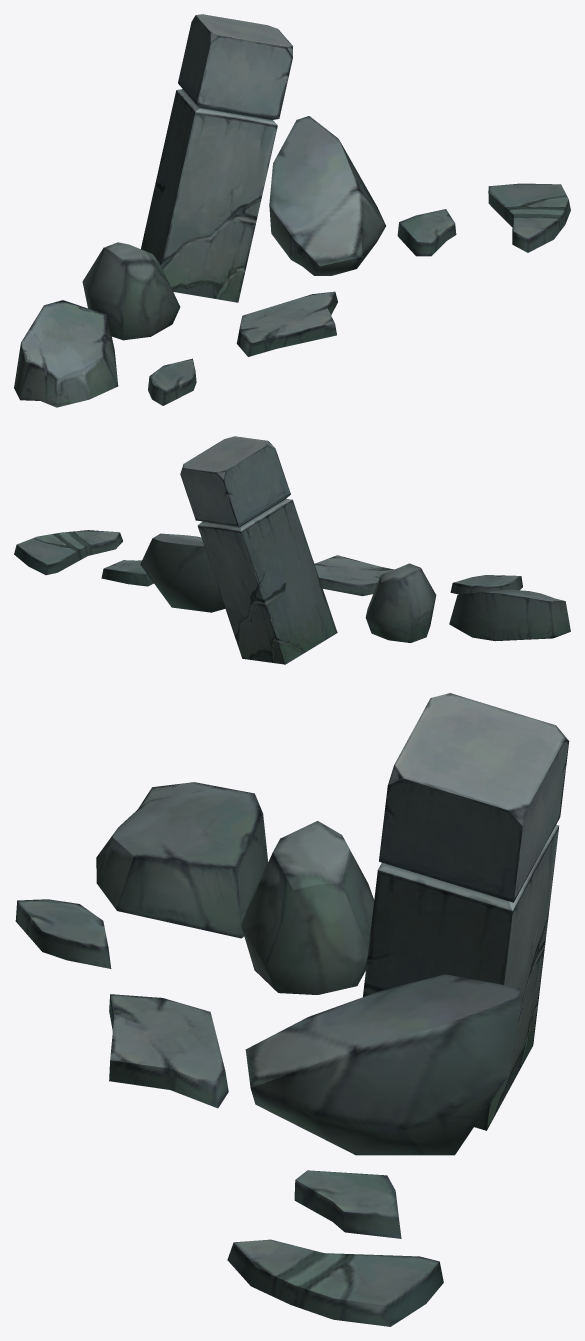
Rendered from 2_YiZhan_ShiDui_01.FBX.
3 views of the same model, one above another, from view 1: azimuth 30°, elevation 25°; view 2: azimuth 150°, elevation 25°; view 3: azimuth 270°, elevation 25° (orthographic). The views are drawn at different scales.
Parts seen in each view (by area): view 1: 2_YiZhan_ShiDui_03, 2_YiZhan_ShiDui_04, 2_YiZhan_ShiDui_01, 2_YiZhan_ShiDui_02, 2_YiZhan_ShiDui_06, 2_YiZhan_ShiDui_08, 2_YiZhan_ShiDui_07, 2_YiZhan_ShiDui_05; view 2: 2_YiZhan_ShiDui_03, 2_YiZhan_ShiDui_01, 2_YiZhan_ShiDui_04, 2_YiZhan_ShiDui_02, 2_YiZhan_ShiDui_08, 2_YiZhan_ShiDui_06, 2_YiZhan_ShiDui_05, 2_YiZhan_ShiDui_07; view 3: 2_YiZhan_ShiDui_03, 2_YiZhan_ShiDui_04, 2_YiZhan_ShiDui_01, 2_YiZhan_ShiDui_02, 2_YiZhan_ShiDui_08, 2_YiZhan_ShiDui_06, 2_YiZhan_ShiDui_07, 2_YiZhan_ShiDui_05.
Part boxes in pixels (left/top/right/bottom): 2_YiZhan_ShiDui_03: left=141, top=14, right=292, bottom=302; 2_YiZhan_ShiDui_04: left=269, top=116, right=385, bottom=275; 2_YiZhan_ShiDui_01: left=14, top=300, right=118, bottom=407; 2_YiZhan_ShiDui_02: left=82, top=242, right=180, bottom=340; 2_YiZhan_ShiDui_06: left=236, top=291, right=337, bottom=356; 2_YiZhan_ShiDui_08: left=488, top=183, right=570, bottom=252; 2_YiZhan_ShiDui_07: left=397, top=209, right=456, bottom=256; 2_YiZhan_ShiDui_05: left=148, top=358, right=196, bottom=405; 2_YiZhan_ShiDui_03: left=180, top=436, right=337, bottom=664; 2_YiZhan_ShiDui_01: left=449, top=589, right=570, bottom=641; 2_YiZhan_ShiDui_04: left=140, top=533, right=225, bottom=612; 2_YiZhan_ShiDui_02: left=365, top=563, right=436, bottom=642; 2_YiZhan_ShiDui_08: left=14, top=530, right=122, bottom=575; 2_YiZhan_ShiDui_06: left=314, top=555, right=393, bottom=596; 2_YiZhan_ShiDui_05: left=450, top=575, right=522, bottom=594; 2_YiZhan_ShiDui_07: left=101, top=560, right=153, bottom=586; 2_YiZhan_ShiDui_03: left=363, top=693, right=569, bottom=1130; 2_YiZhan_ShiDui_04: left=245, top=974, right=521, bottom=1155; 2_YiZhan_ShiDui_01: left=96, top=782, right=267, bottom=938; 2_YiZhan_ShiDui_02: left=241, top=821, right=374, bottom=994; 2_YiZhan_ShiDui_08: left=227, top=1239, right=443, bottom=1326; 2_YiZhan_ShiDui_06: left=109, top=994, right=228, bottom=1108; 2_YiZhan_ShiDui_07: left=294, top=1170, right=401, bottom=1238; 2_YiZhan_ShiDui_05: left=15, top=899, right=111, bottom=968.
Bounding box in the file's own units: 1498 × 608 × 723.
